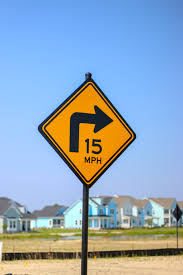right: (35, 75, 138, 187)
